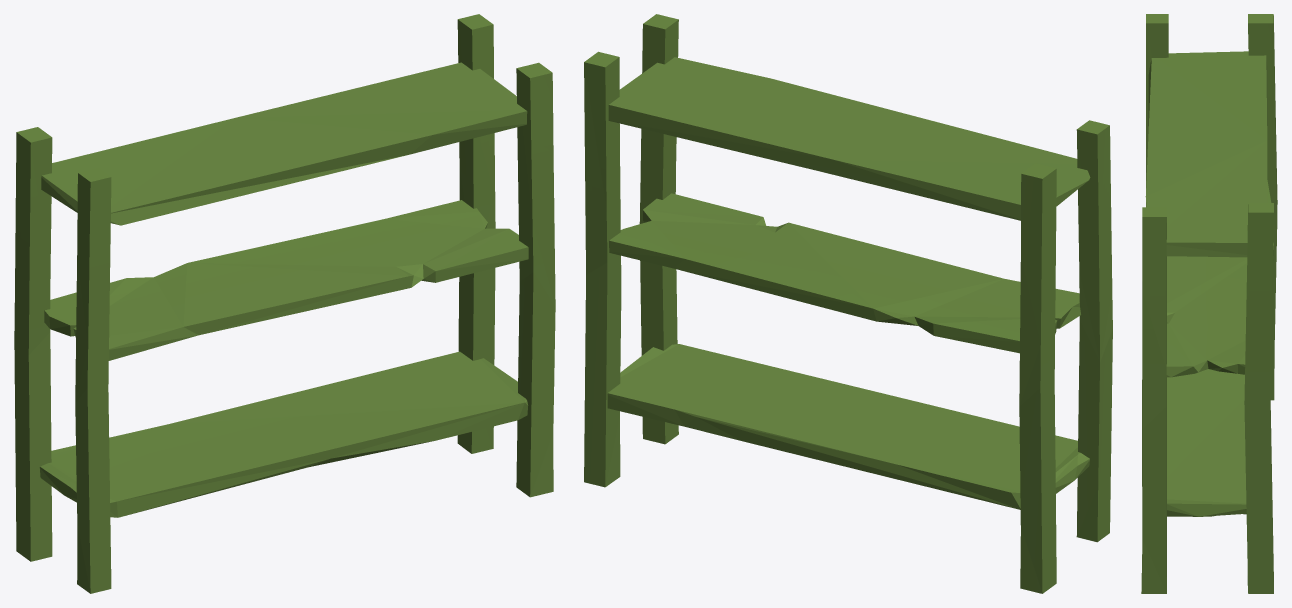
Rendered from Shelving_01.fbx.
3 views of the same model, side by side, from view 1: azimuth 30°, elevation 25°; view 2: azimuth 150°, elevation 25°; view 3: azimuth 270°, elevation 25° (orthographic). The views are drawn at different scales.
Visible parts, largest first — view 1: Shelving_01; view 2: Shelving_01; view 3: Shelving_01.
Boxes of the visible parts, bbox=[...] form: Shelving_01: bbox=[14, 14, 555, 593]; Shelving_01: bbox=[584, 14, 1112, 593]; Shelving_01: bbox=[1141, 14, 1277, 593].
Bounding box in the file's own units: 1.12 × 0.9714 × 0.3141.
